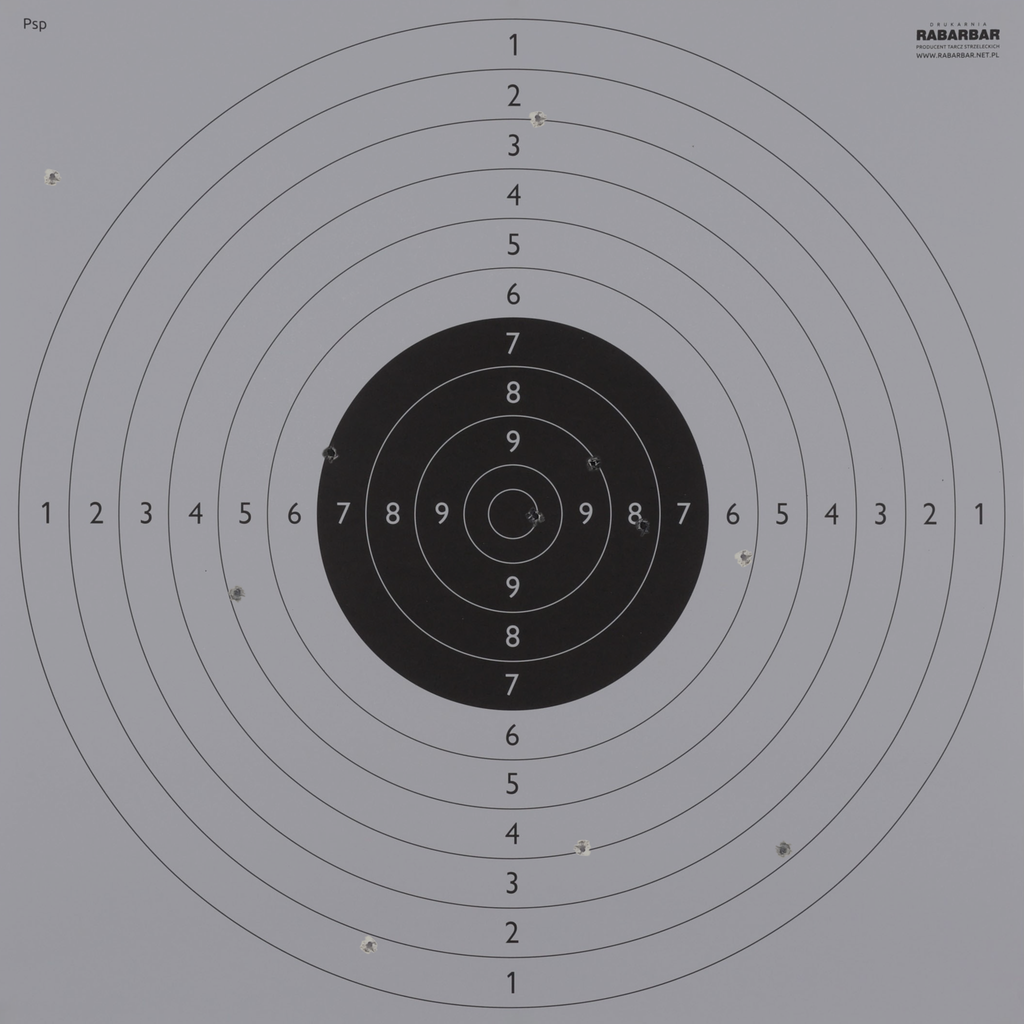0 punktow: (43, 168, 62, 186)
1 punkt: (360, 936, 379, 954)
10 punktow: (526, 507, 544, 525)
2 punkty: (774, 841, 792, 859)
3 punkty: (529, 109, 547, 128)
4 punkty: (573, 839, 592, 858)
5 punktow: (228, 584, 246, 602)
6 punktow: (735, 548, 753, 566)
7 punktow: (322, 444, 340, 462)
8 punktow: (634, 517, 652, 535)
9 punktow: (584, 454, 602, 472)
